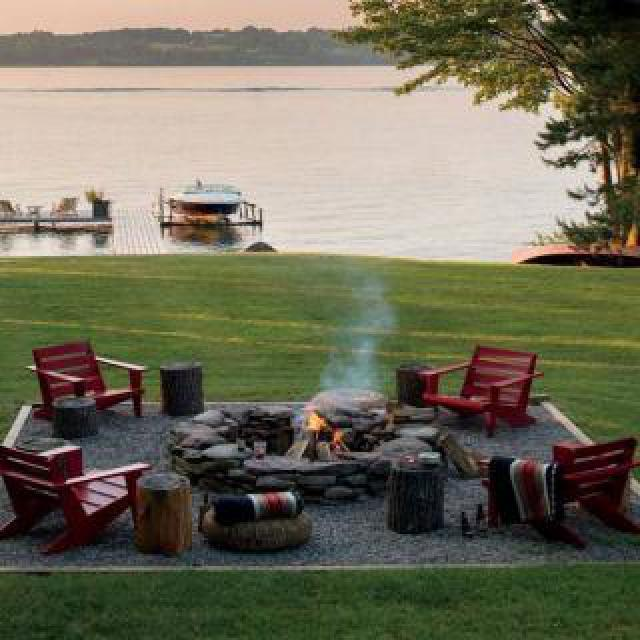Fire: (300, 410, 354, 452)
Smoke: (328, 290, 392, 400)
